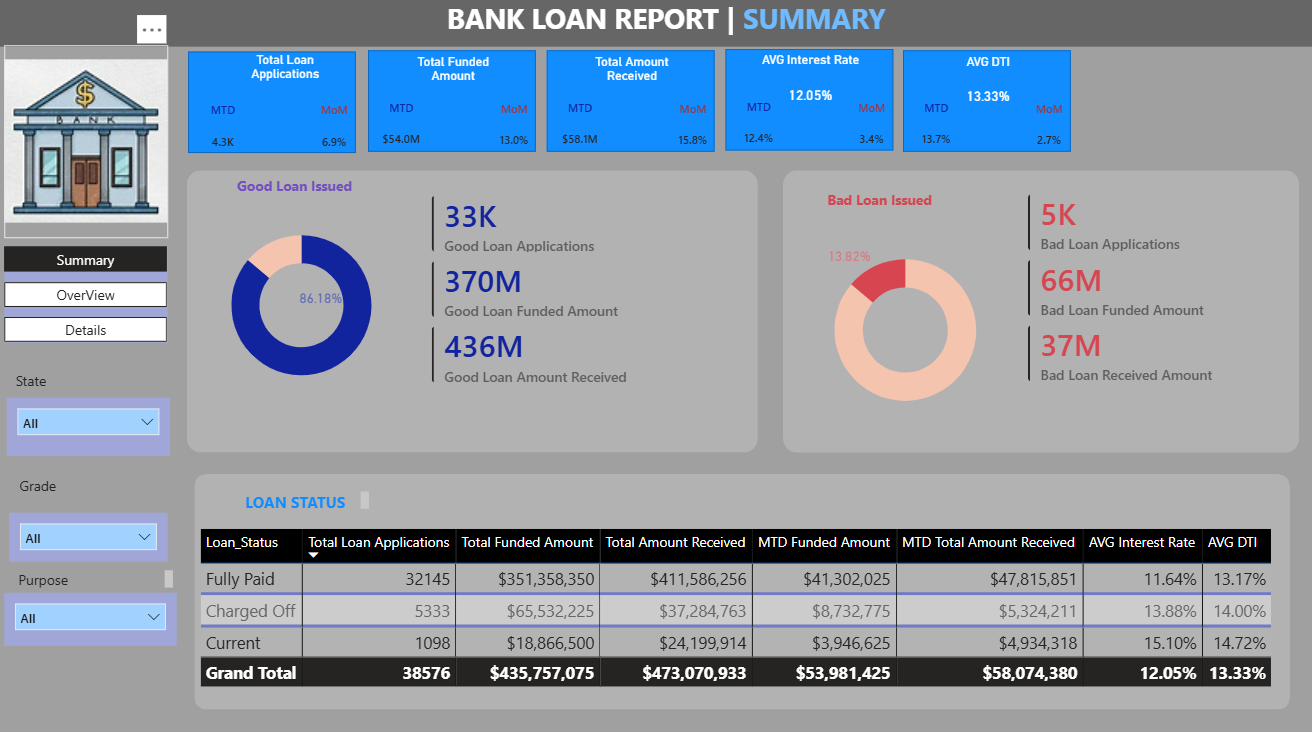

What the dashboard file says about the page in this screenshot:
{"tool":"powerbi","page":{"name":"Summary","canvas":[1280,720],"ordinal":0},"visuals":[{"type":"shape","box":[0,0,1280,50.8],"z":0},{"type":"shape","box":[701.6,53.6,162,98],"z":0,"group":"g5"},{"type":"shape","box":[873.8,53.8,162,98],"z":0,"group":"g6"},{"type":"shape","box":[357,54,162,98],"z":0,"group":"g3"},{"type":"shape","box":[530,54.3,162,98],"z":0,"group":"g4"},{"type":"shape","box":[183,55,162,98],"z":0,"group":"g1"},{"type":"shape","box":[182.5,170,551.2,272.5],"z":0,"group":"g2"},{"type":"shape","box":[757.6,170.1,498.3,272.7],"z":0,"group":"g7"},{"type":"card","title":"Total Loan Applications","fields":{"Values":["Bank_Loan_dataset.Total Loan Applications"]},"box":[208,55.9,137,48.1],"z":1000,"group":"g1"},{"type":"card","title":"AVG Interest Rate","fields":{"Values":["Bank_Loan_dataset.AVG Interest Rate"]},"box":[716,57.6,135.6,50],"z":1000,"group":"g5"},{"type":"card","title":"AVG DTI","fields":{"Values":["Bank_Loan_dataset.AVG DTI"]},"box":[888.2,57.8,135.6,50],"z":1000,"group":"g6"},{"type":"card","title":"Total Funded Amount","fields":{"Values":["Bank_Loan_dataset.Total Funded Amount"]},"box":[371.4,58,135.6,50],"z":1000,"group":"g3"},{"type":"card","title":"Total  Amount Received","fields":{"Values":["Bank_Loan_dataset.Total Amount REceived"]},"box":[544.4,58.3,135.6,50],"z":1000,"group":"g4"},{"type":"donutChart","fields":{"Category":["Bank_Loan_dataset.Good vs Bad Loan(groups)"],"Y":["Bank_Loan_dataset.Total Loan Applications"]},"box":[195.2,211.3,195.2,179],"z":1000,"group":"g2"},{"type":"donutChart","fields":{"Category":["Bank_Loan_dataset.Good vs Bad Loan(groups)"],"Y":["Bank_Loan_dataset.Total Loan Applications"]},"box":[773.7,233.9,205.1,181],"z":1000,"group":"g7"},{"type":"shape","box":[190,463.8,1057.5,227.5],"z":1000},{"type":"card","title":"MTD","fields":{"Values":["Bank_Loan_dataset.MTD AVG Interest Rate"]},"box":[708.3,102,50,50],"z":2000,"group":"g5"},{"type":"card","title":"MTD","fields":{"Values":["Bank_Loan_dataset.MTD AVG DTI"]},"box":[880.5,102.2,50,50],"z":2000,"group":"g6"},{"type":"card","title":"MTD","fields":{"Values":["Bank_Loan_dataset.MTD Funded Amount Applications"]},"box":[363.7,102.4,50,50],"z":2000,"group":"g3"},{"type":"card","title":"MTD","fields":{"Values":["Bank_Loan_dataset.MTD Total Amount Received"]},"box":[536.7,102.7,50,50],"z":2000,"group":"g4"},{"type":"card","title":"MTD","fields":{"Values":["Bank_Loan_dataset.MTD Loan Applications"]},"box":[196,104,41,49],"z":2000,"group":"g1"},{"type":"textbox","box":[215.5,171.3,142.8,31.9],"z":2000,"group":"g2"},{"type":"textbox","box":[786.4,184.3,128.5,30.8],"z":2000,"group":"g7"},{"type":"card","title":"AVG Interest Rate","fields":{"Values":["Bank_Loan_dataset.Bad Loan %"]},"box":[753.8,228.8,135.6,50],"z":2000},{"type":"card","title":"MoM","fields":{"Values":["Bank_Loan_dataset.MOm AVG Interest Rate"]},"box":[822.6,102.6,41,49],"z":3000,"group":"g5"},{"type":"card","title":"MoM","fields":{"Values":["Bank_Loan_dataset.MoM AVG DTI"]},"box":[994.8,102.8,41,49],"z":3000,"group":"g6"},{"type":"card","title":"MoM","fields":{"Values":["Bank_Loan_dataset.MoM Total Funded Amount"]},"box":[478,103,41,49],"z":3000,"group":"g3"},{"type":"card","title":"MoM","fields":{"Values":["Bank_Loan_dataset.MoM Total Amount Recieved"]},"box":[651,103.3,41,49],"z":3000,"group":"g4"},{"type":"card","title":"MoM","fields":{"Values":["Bank_Loan_dataset.MoM Loan Applications"]},"box":[304,104,41,49],"z":3000,"group":"g1"},{"type":"cardVisual","fields":{"Data":["Bank_Loan_dataset.Bad Loan Applications","Bank_Loan_dataset.Bad Loan Funded Amount","Bank_Loan_dataset.Bad Loan Received Amount"]},"box":[977.6,176,271.4,226.8],"z":3000,"group":"g7"},{"type":"cardVisual","fields":{"Data":["Bank_Loan_dataset.Good Loan Applications","Bank_Loan_dataset.Good Loan Funded Amount","Bank_Loan_dataset.Good Loan Amount Received"]},"box":[402.1,177.5,277.5,246.2],"z":3000,"group":"g2"},{"type":"card","title":"AVG Interest Rate","fields":{"Values":["Bank_Loan_dataset.Good Loan %"]},"box":[252.5,275,119.1,40],"z":3000},{"type":"textbox","box":[220,475,143.8,26.2],"z":4000},{"type":"textbox","box":[386.1,0,517.6,49.5],"z":5000},{"type":"group","id":"g1","title":"Group 1","box":[183,55,162,98],"z":6000},{"type":"group","id":"g2","title":"Group 2","box":[182.5,170,551.2,272.5],"z":7000},{"type":"group","id":"g3","title":"Group 1","box":[357,54,162,98.4],"z":8000},{"type":"group","id":"g4","title":"Group 1","box":[530,54.3,161.4,98.6],"z":9000},{"type":"group","id":"g5","title":"Group 1","box":[701.6,53.6,162,98.4],"z":10000},{"type":"group","id":"g6","title":"Group 1","box":[873.8,53.8,162.5,98.8],"z":11000},{"type":"group","id":"g7","title":"Group 2","box":[757.6,170.1,498.3,272.7],"z":12000},{"type":"tableEx","fields":{"Values":["Bank_Loan_dataset.loan_status","Bank_Loan_dataset.Total Loan Applications","Bank_Loan_dataset.Total Funded Amount","Bank_Loan_dataset.Total Amount Received","Bank_Loan_dataset.MTD Funded Amount","Bank_Loan_dataset.MTD Total Amount Received","Bank_Loan_dataset.AVG Interest Rate","Bank_Loan_dataset.AVG DTI"]},"box":[190,511.2,1045,180],"z":13000},{"type":"slicer","fields":{"Values":["Bank_Loan_dataset.address_state"]},"box":[8.8,390,157.5,56.2],"z":14000},{"type":"textbox","box":[12.5,360,155.6,30.2],"z":15000},{"type":"slicer","fields":{"Values":["Bank_Loan_dataset.grade"]},"box":[11.2,501.2,152.5,47.5],"z":16000},{"type":"slicer","fields":{"Values":["Bank_Loan_dataset.purpose","Bank_Loan_dataset.grade"]},"box":[6.2,577.5,166.2,51.2],"z":17000},{"type":"textbox","box":[16.2,461.2,84.5,27.7],"z":18000},{"type":"textbox","box":[14.5,551.3,159.3,26.5],"z":19000},{"type":"image","box":[6.2,50,157.5,185],"z":20000},{"type":"pageNavigator","box":[6.2,243.8,157.5,92.5],"z":21000}]}

Visuals, with their boxes in screenshot pixels (x1, y1, x2, y2), scaled from the page's 1280x720 canvas onto the 1312x732 screenshot:
shape: [left=0, top=0, right=1311, bottom=52]
shape: [left=719, top=54, right=885, bottom=154]
shape: [left=896, top=55, right=1062, bottom=154]
shape: [left=366, top=55, right=532, bottom=155]
shape: [left=543, top=55, right=709, bottom=155]
shape: [left=188, top=56, right=354, bottom=156]
shape: [left=187, top=173, right=752, bottom=450]
shape: [left=777, top=173, right=1287, bottom=450]
"Total Loan Applications" card: [left=213, top=57, right=354, bottom=106]
"AVG Interest Rate" card: [left=734, top=59, right=873, bottom=109]
"AVG DTI" card: [left=910, top=59, right=1049, bottom=110]
"Total Funded Amount" card: [left=381, top=59, right=520, bottom=110]
"Total  Amount Received" card: [left=558, top=59, right=697, bottom=110]
donutChart - Bank_Loan_dataset.Good vs Bad Loan(groups) x Bank_Loan_dataset.Total Loan Applications: [left=200, top=215, right=400, bottom=397]
donutChart - Bank_Loan_dataset.Good vs Bad Loan(groups) x Bank_Loan_dataset.Total Loan Applications: [left=793, top=238, right=1003, bottom=422]
shape: [left=195, top=472, right=1279, bottom=703]
"MTD" card: [left=726, top=104, right=777, bottom=155]
"MTD" card: [left=903, top=104, right=954, bottom=155]
"MTD" card: [left=373, top=104, right=424, bottom=155]
"MTD" card: [left=550, top=104, right=601, bottom=155]
"MTD" card: [left=201, top=106, right=243, bottom=156]
textbox: [left=221, top=174, right=367, bottom=207]
textbox: [left=806, top=187, right=938, bottom=219]
"AVG Interest Rate" card: [left=773, top=233, right=912, bottom=283]
"MoM" card: [left=843, top=104, right=885, bottom=154]
"MoM" card: [left=1020, top=105, right=1062, bottom=154]
"MoM" card: [left=490, top=105, right=532, bottom=155]
"MoM" card: [left=667, top=105, right=709, bottom=155]
"MoM" card: [left=312, top=106, right=354, bottom=156]
cardVisual - Bank_Loan_dataset.Bad Loan Applications x Bank_Loan_dataset.Bad Loan Funded Amount: [left=1002, top=179, right=1280, bottom=410]
cardVisual - Bank_Loan_dataset.Good Loan Applications x Bank_Loan_dataset.Good Loan Funded Amount: [left=412, top=180, right=697, bottom=431]
"AVG Interest Rate" card: [left=259, top=280, right=381, bottom=320]
textbox: [left=225, top=483, right=373, bottom=510]
textbox: [left=396, top=0, right=926, bottom=50]
"Group 1" group: [left=188, top=56, right=354, bottom=156]
"Group 2" group: [left=187, top=173, right=752, bottom=450]
"Group 1" group: [left=366, top=55, right=532, bottom=155]
"Group 1" group: [left=543, top=55, right=709, bottom=155]
"Group 1" group: [left=719, top=54, right=885, bottom=155]
"Group 1" group: [left=896, top=55, right=1062, bottom=155]
"Group 2" group: [left=777, top=173, right=1287, bottom=450]
tableEx - Bank_Loan_dataset.loan_status x Bank_Loan_dataset.Total Loan Applications: [left=195, top=520, right=1266, bottom=703]
slicer - Bank_Loan_dataset.address_state: [left=9, top=396, right=170, bottom=454]
textbox: [left=13, top=366, right=172, bottom=397]
slicer - Bank_Loan_dataset.grade: [left=11, top=510, right=168, bottom=558]
slicer - Bank_Loan_dataset.purpose x Bank_Loan_dataset.grade: [left=6, top=587, right=177, bottom=639]
textbox: [left=17, top=469, right=103, bottom=497]
textbox: [left=15, top=560, right=178, bottom=587]
image: [left=6, top=51, right=168, bottom=239]
pageNavigator: [left=6, top=248, right=168, bottom=342]
